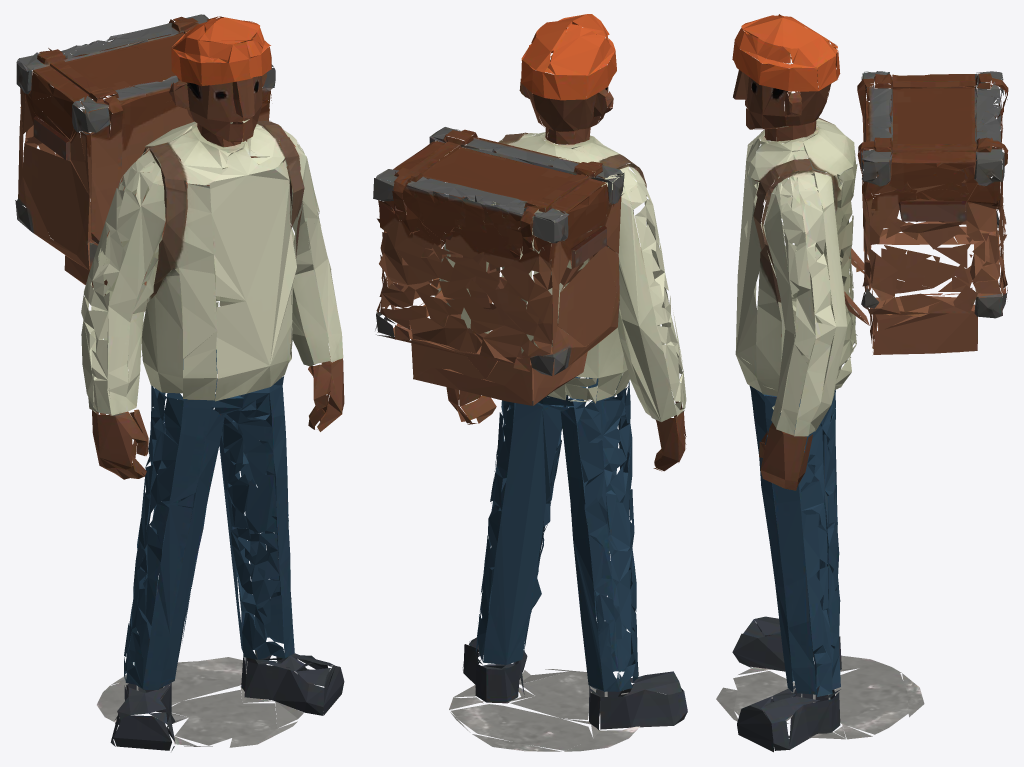
File: habitant.glb
3 renders of one model, left to right at view 1: azimuth 30°, elevation 25°; view 2: azimuth 150°, elevation 25°; view 3: azimuth 270°, elevation 25°, orthographic. The views are drawn at different scales.
Parts seen in each view (by area): view 1: world; view 2: world; view 3: world.
Boxes of the visible parts, <box> form: world: <box>15,14,344,751</box>; world: <box>373,14,687,751</box>; world: <box>716,14,1008,752</box>.
Bounding box in the file's own units: 0.3749 × 1.01 × 0.3918.
Materials: 1 (1 with a texture image).
